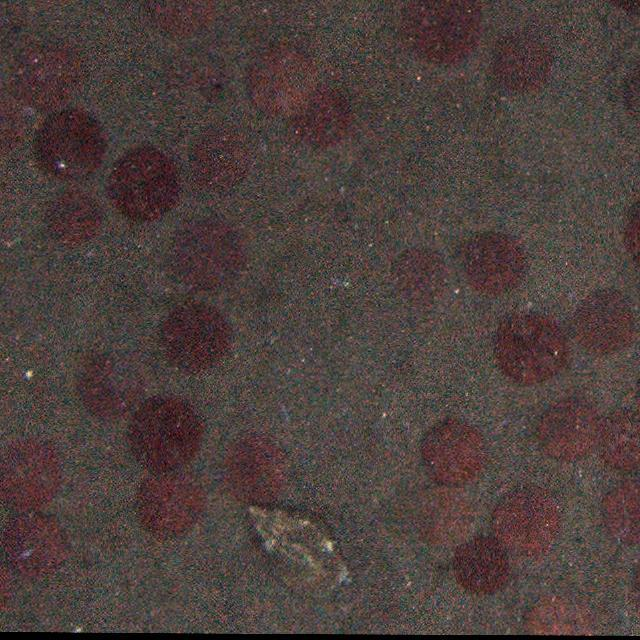whelk: (247, 498, 353, 600)
